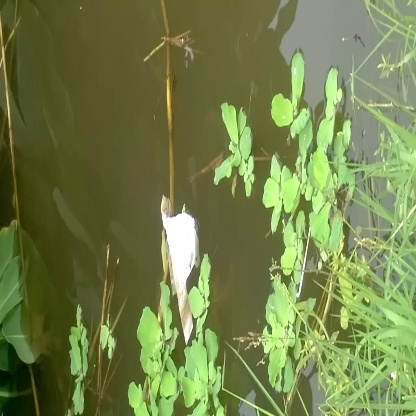plastic-bag: (152, 206, 211, 337)
